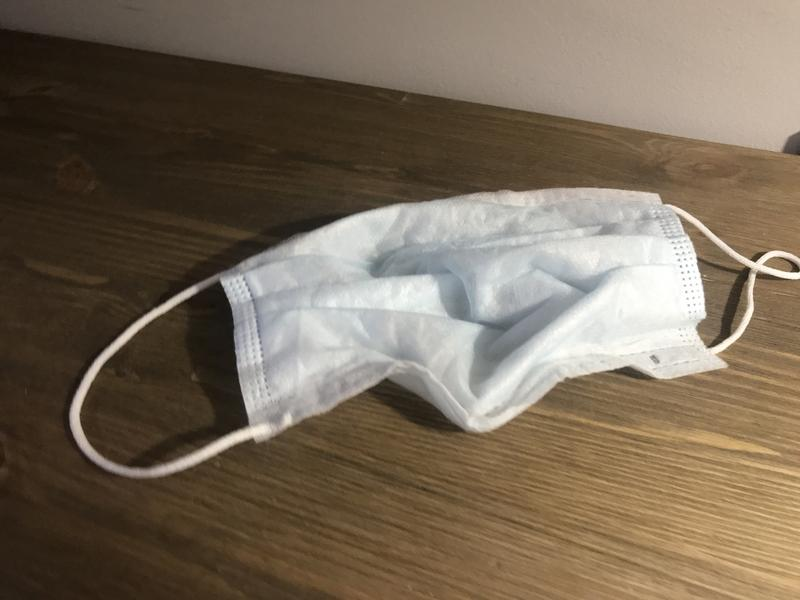medical_mask: (70, 187, 800, 480)
